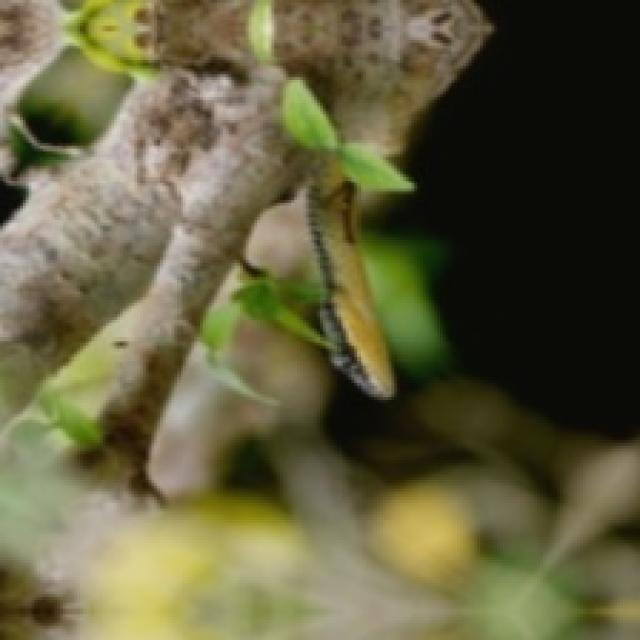paradise tree snake: (163, 0, 489, 186), (311, 180, 391, 394)
